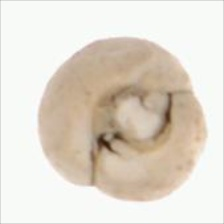L3: (88, 85, 173, 156)
L4: (36, 36, 208, 202)
